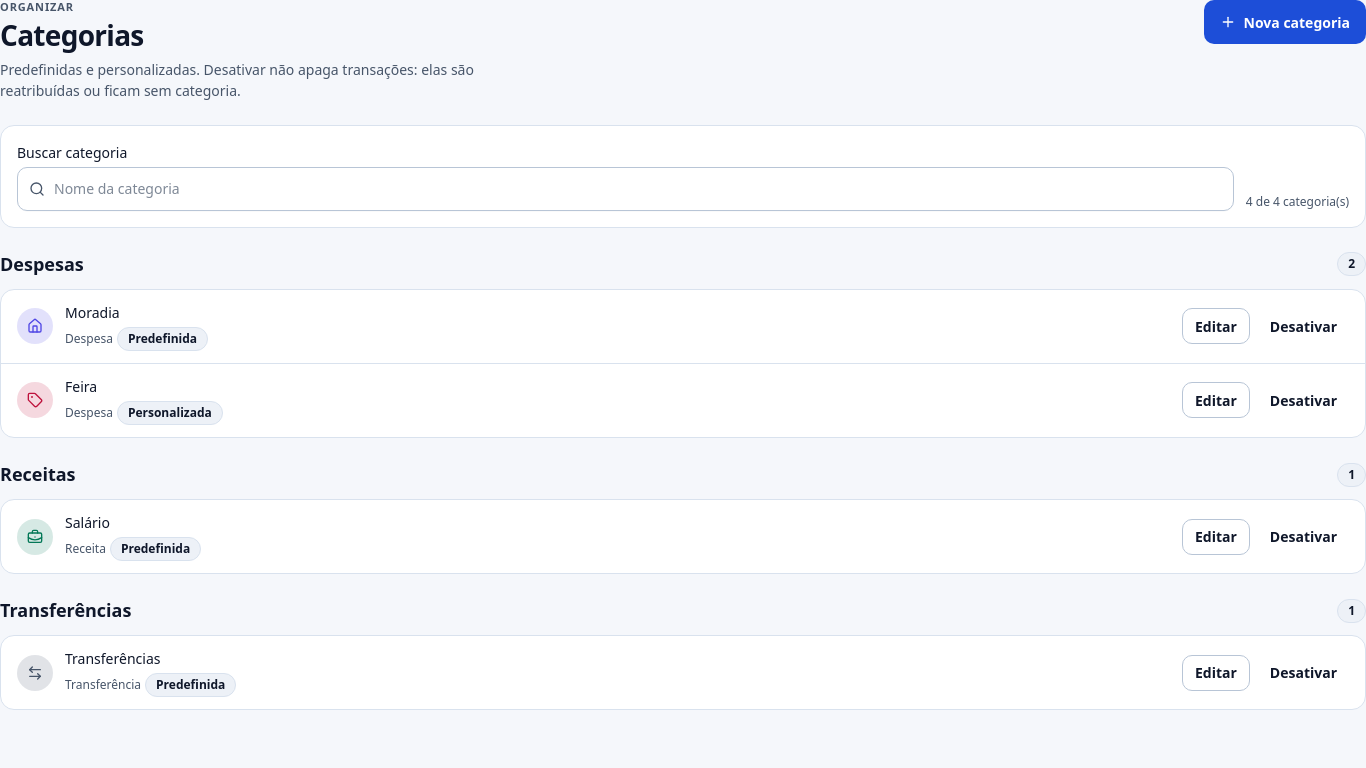
Scenario: categorias › agrupa por tipo, busca localmente e explica o impacto de desativar
Check: the heading "Categorias" is shown, box [0,16,144,54]
Check: the text "Moradia" is shown, box [65,303,120,322]
In the search field labelled "Buscar categoria": (625, 189) [17,167,1234,211], type "feira"
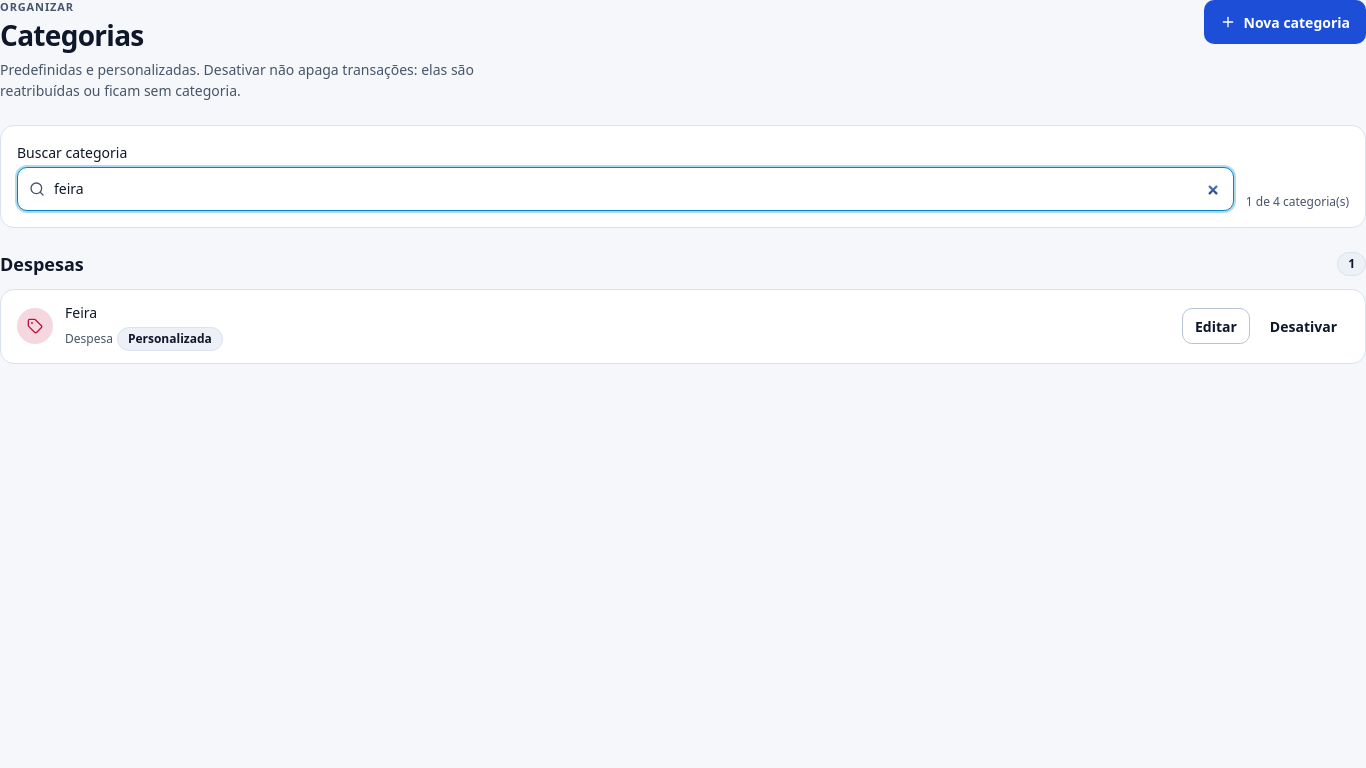
Check: the list item "Feira" is shown, box [65,303,97,322]
Check: the text "Moradia" is gone
Check: the text "Salário" is gone
Click the button "Desativar": (1303, 326) [1258,308,1349,344]
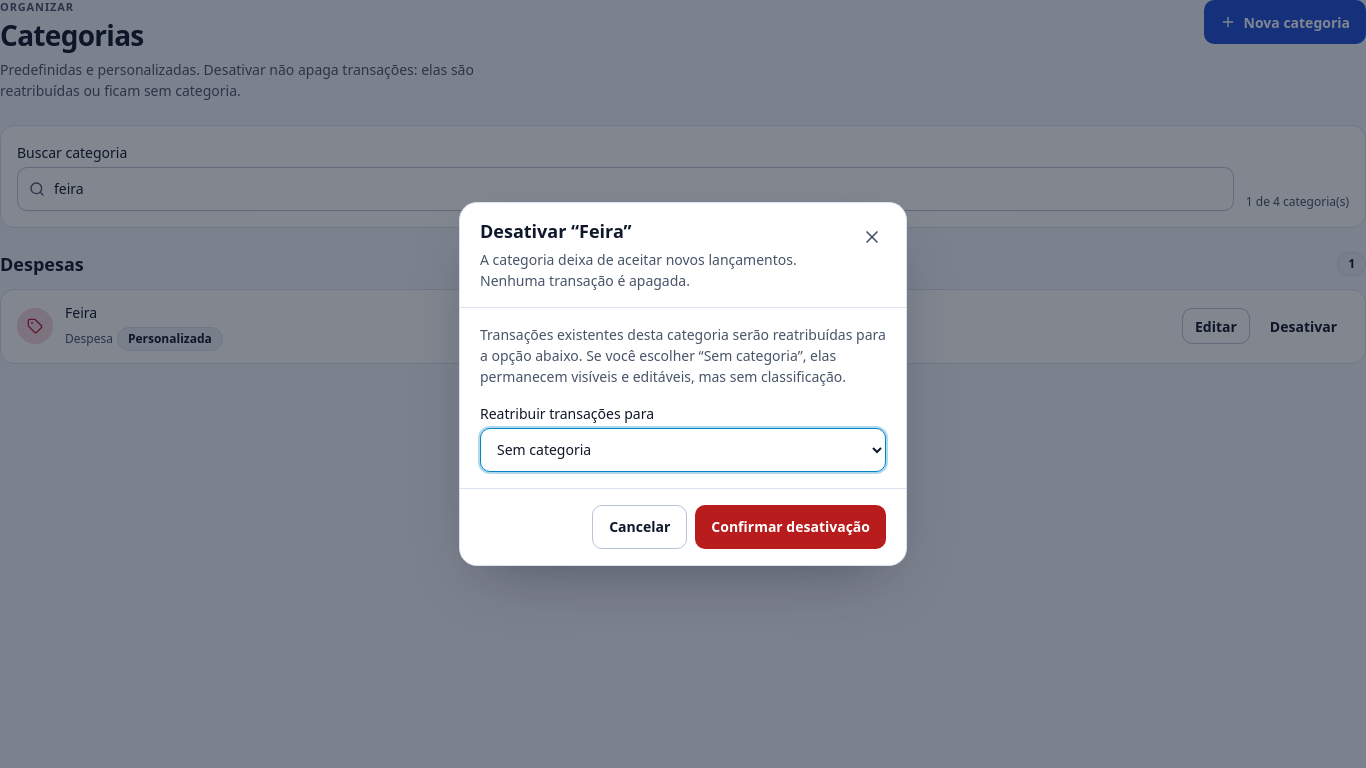
Check: the text "Nenhuma transação é apagada" is shown, box [480,250,797,290]
Check: the dropdown labelled "Reatribuir transações para" is shown, box [480,428,886,472]
Check: the button "Confirmar desativação" is shown, box [695,505,886,549]
